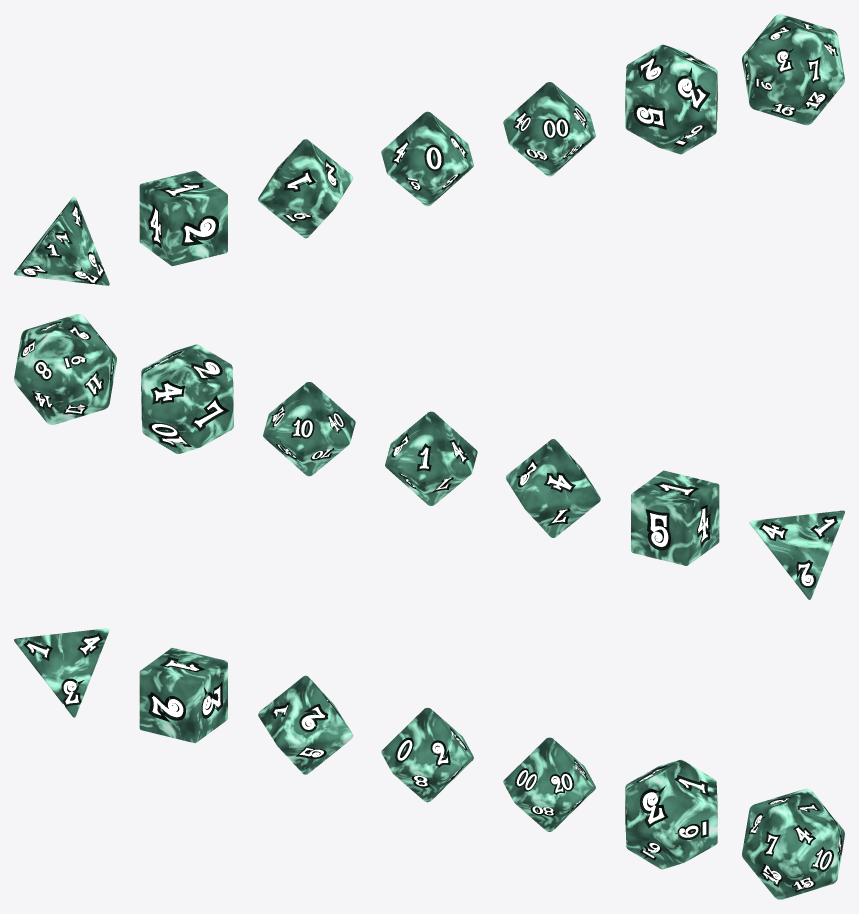
Rendered from ectoplasm.glb.
3 renders of one model, top to bottom at view 1: azimuth 30°, elevation 25°; view 2: azimuth 150°, elevation 25°; view 3: azimuth 330°, elevation 25°, orthographic.
Visible parts, largest first — view 1: d20, d12, d6, d100, d10, d8, d4; view 2: d20, d12, d6, d100, d10, d8, d4; view 3: d20, d12, d6, d8, d100, d10, d4.
Part boxes in pixels (<box>): d20: <box>742,14,844,125</box>; d12: <box>625,44,717,154</box>; d6: <box>139,170,227,266</box>; d100: <box>503,82,595,176</box>; d10: <box>381,111,473,206</box>; d8: <box>258,139,353,238</box>; d4: <box>14,196,109,285</box>; d20: <box>14,314,116,424</box>; d12: <box>141,344,233,453</box>; d6: <box>631,470,719,565</box>; d100: <box>263,382,355,476</box>; d10: <box>385,411,477,505</box>; d8: <box>505,439,600,537</box>; d4: <box>749,510,844,599</box>; d20: <box>742,788,844,899</box>; d12: <box>625,759,717,869</box>; d6: <box>139,647,227,743</box>; d8: <box>258,675,353,774</box>; d100: <box>503,737,595,831</box>; d10: <box>381,707,473,802</box>; d4: <box>14,628,109,717</box>.
Bounding box in the file's own units: 21.14 × 2.47 × 2.47.
21 materials, 7 textured.
